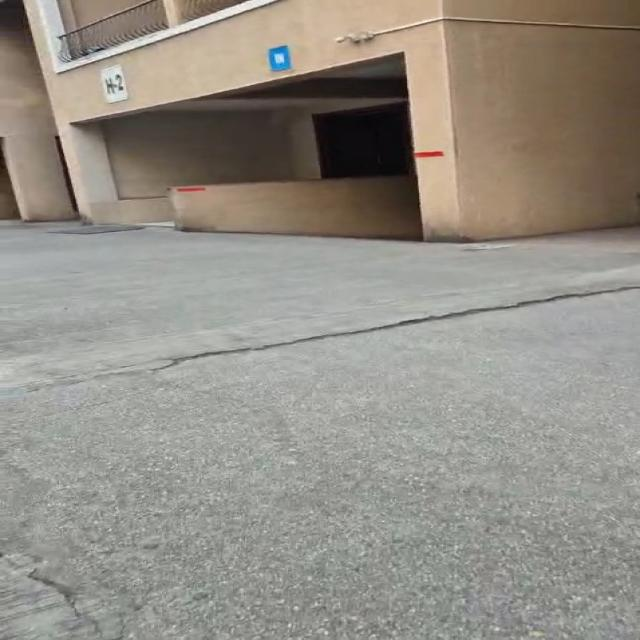vehicle: (49, 226, 144, 234)
